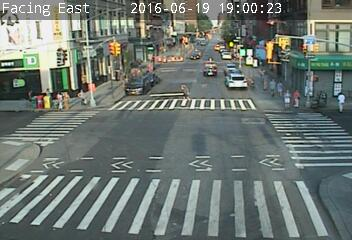neg: (129, 45, 145, 66), (235, 51, 246, 66), (247, 36, 255, 46)
pos: (289, 85, 306, 108), (334, 90, 350, 112), (279, 88, 295, 109), (51, 90, 66, 109), (265, 78, 279, 96), (274, 78, 287, 95), (179, 83, 191, 99)
